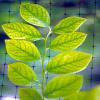Blueberry leaf: (45, 51, 96, 75), (44, 74, 84, 99), (6, 62, 41, 87), (4, 39, 42, 62), (47, 32, 90, 52), (19, 2, 52, 28), (52, 16, 91, 32), (17, 88, 43, 99)
